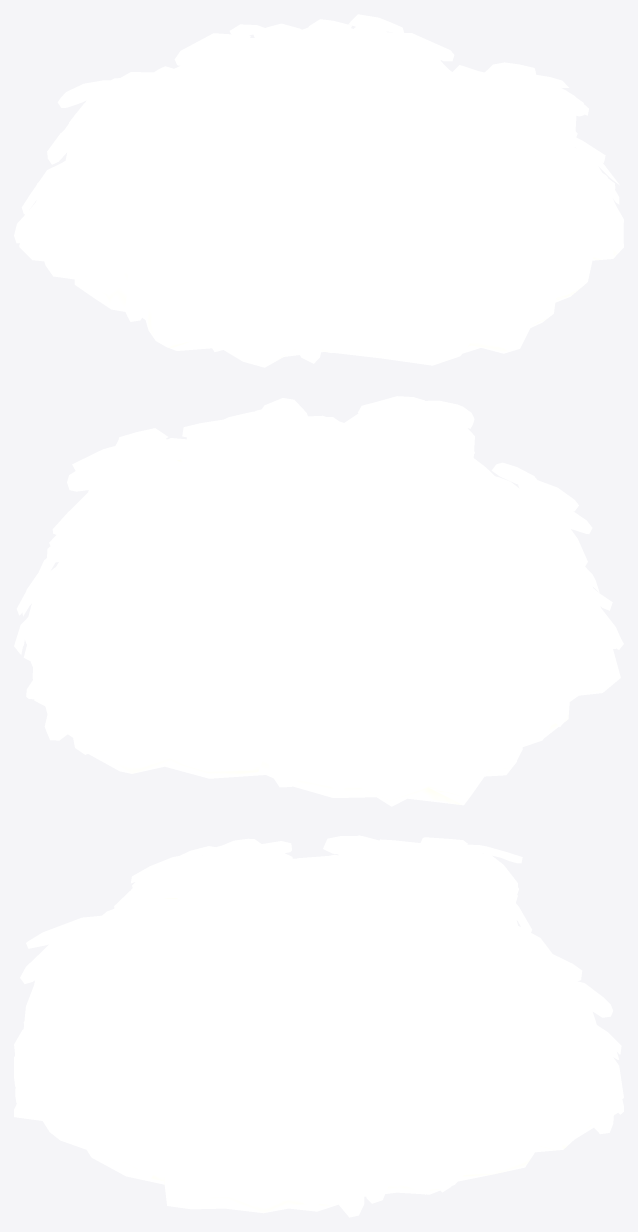
File: arbusto-amendoa.glb
3 renders of one model, top to bottom at view 1: azimuth 30°, elevation 25°; view 2: azimuth 150°, elevation 25°; view 3: azimuth 270°, elevation 25°, orthographic. The views are drawn at different scales.
Visible parts, largest first — view 1: mesh_node; view 2: mesh_node; view 3: mesh_node.
Part boxes in pixels (bbox=[...]): mesh_node: bbox=[14, 14, 623, 367]; mesh_node: bbox=[14, 396, 623, 806]; mesh_node: bbox=[14, 835, 623, 1217].
Size of the model in its own units: 1 by 0.4512 by 1.
1 material, 1 textured.
